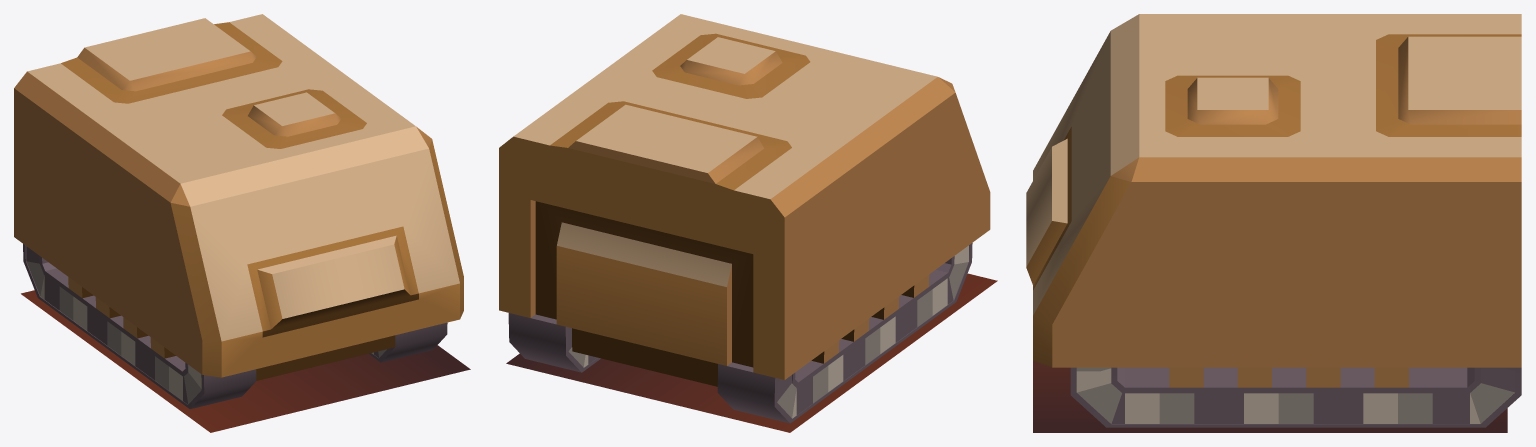
File: APCMesh.BrownDesert.glb
3 renders of one model, left to right at view 1: azimuth 30°, elevation 25°; view 2: azimuth 150°, elevation 25°; view 3: azimuth 270°, elevation 25°, orthographic. The views are drawn at different scales.
Visible parts, largest first — view 1: APCMesh.BrownDesert; view 2: APCMesh.BrownDesert; view 3: APCMesh.BrownDesert.
Part boxes in pixels (x1,y1,x2,y2): APCMesh.BrownDesert: [14, 14, 470, 432]; APCMesh.BrownDesert: [499, 14, 997, 432]; APCMesh.BrownDesert: [1026, 14, 1521, 432].
Size of the model in its own units: 1.51 by 1.25 by 1.98.
Materials: 1 (1 with a texture image).
